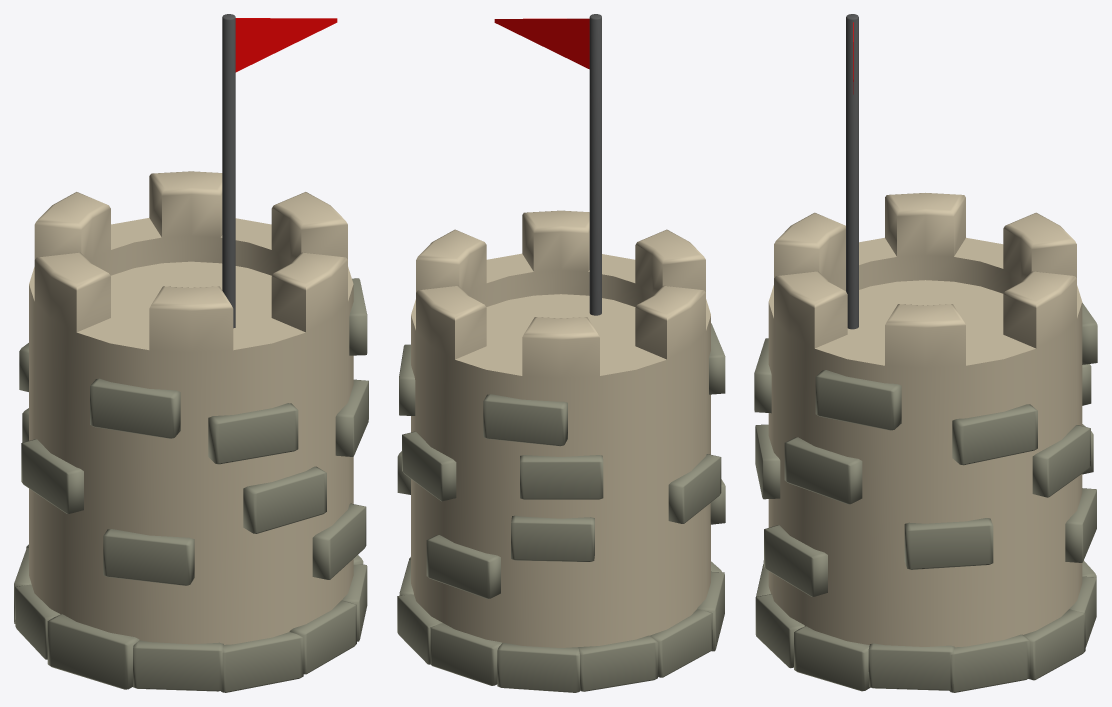
The model's file is towerlvl2.glb.
3 views of the same model, side by side, from view 1: azimuth 30°, elevation 25°; view 2: azimuth 150°, elevation 25°; view 3: azimuth 270°, elevation 25° (orthographic). The views are drawn at different scales.
Visible parts, largest first — view 1: ArcherTower_Level2_RedTeam, RedFlag; view 2: ArcherTower_Level2_RedTeam, RedFlag; view 3: ArcherTower_Level2_RedTeam.
Boxes of the visible parts, x1,y1,x2,y2 form: ArcherTower_Level2_RedTeam: (14,14,368,692); RedFlag: (235,18,337,72); ArcherTower_Level2_RedTeam: (397,14,725,692); RedFlag: (494,18,589,69); ArcherTower_Level2_RedTeam: (754,14,1097,692).
Bounding box in the file's own units: 13.16 × 25.76 × 13.12.
